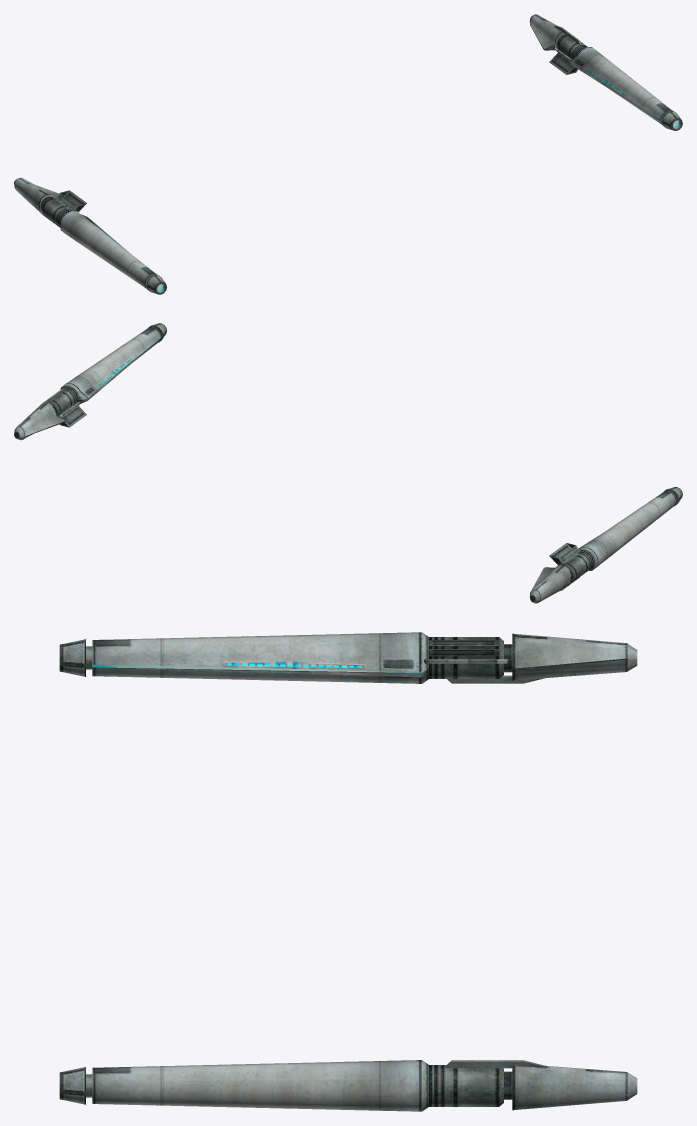
The model's file is xwing_weapon1_neg_s02_l0.fbx.
3 renders of one model, top to bottom at view 1: azimuth 30°, elevation 25°; view 2: azimuth 150°, elevation 25°; view 3: azimuth 270°, elevation 25°, orthographic. The views are drawn at different scales.
Visible parts, largest first — view 1: mesh_node; view 2: mesh_node; view 3: mesh_node.
Boxes of the visible parts, x1,y1,x2,y2 form: mesh_node: (14, 14, 682, 294); mesh_node: (14, 323, 682, 603); mesh_node: (59, 632, 637, 1111).
Bounding box in the file's own units: 13.95 × 1.55 × 6.48.
1 material, 1 textured.
